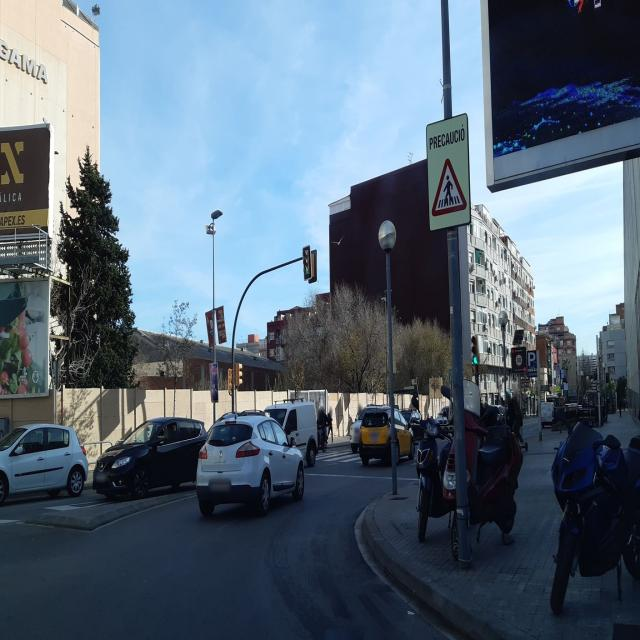bike: (548, 420, 640, 624), (450, 382, 522, 557), (416, 414, 456, 545)
car: (196, 410, 306, 518), (93, 416, 209, 502), (0, 422, 89, 509), (264, 399, 318, 468), (360, 404, 414, 466), (350, 406, 366, 452), (540, 401, 554, 427)
